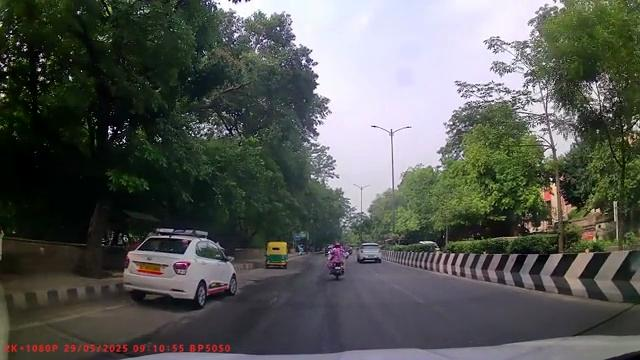passenger_with_helmet: (325, 240, 350, 278)
